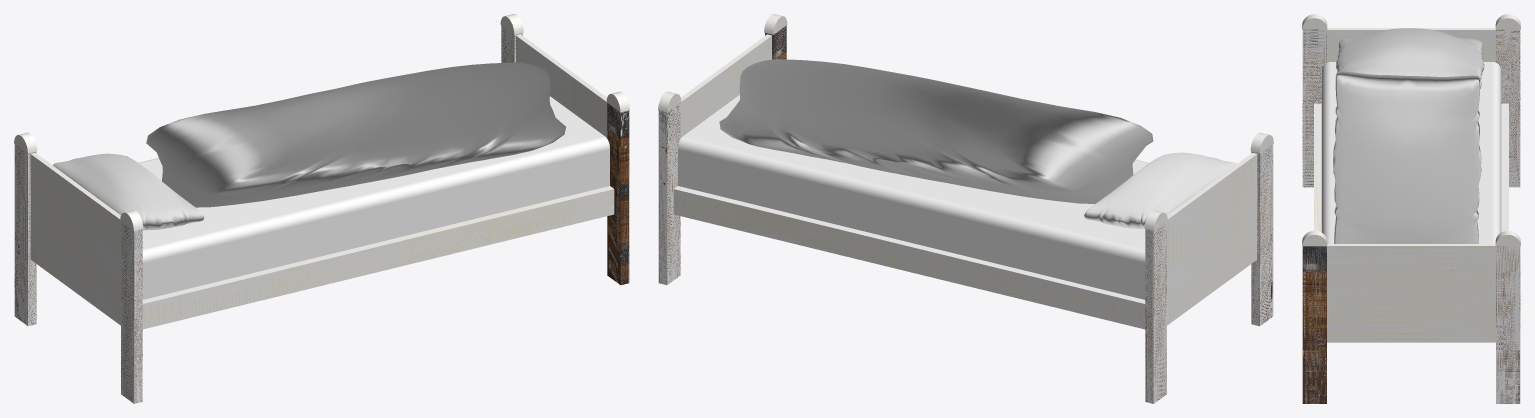
3 renders of one model, left to right at view 1: azimuth 30°, elevation 25°; view 2: azimuth 150°, elevation 25°; view 3: azimuth 270°, elevation 25°, orthographic. The views are drawn at different scales.
Visible parts, largest first — view 1: mesh2_mesh2-geometry, mesh1_mesh1-geometry; view 2: mesh2_mesh2-geometry, mesh1_mesh1-geometry; view 3: mesh2_mesh2-geometry, mesh1_mesh1-geometry.
Boxes of the visible parts, x1=… form: mesh2_mesh2-geometry: x1=14, y1=14, x2=629, y2=403; mesh1_mesh1-geometry: x1=53, y1=62, x2=565, y2=230; mesh2_mesh2-geometry: x1=658, y1=14, x2=1273, y2=403; mesh1_mesh1-geometry: x1=719, y1=59, x2=1236, y2=228; mesh2_mesh2-geometry: x1=1302, y1=14, x2=1520, y2=403; mesh1_mesh1-geometry: x1=1333, y1=28, x2=1484, y2=243.
Size of the model in its own units: 0.8711 by 0.3288 by 0.3648.
